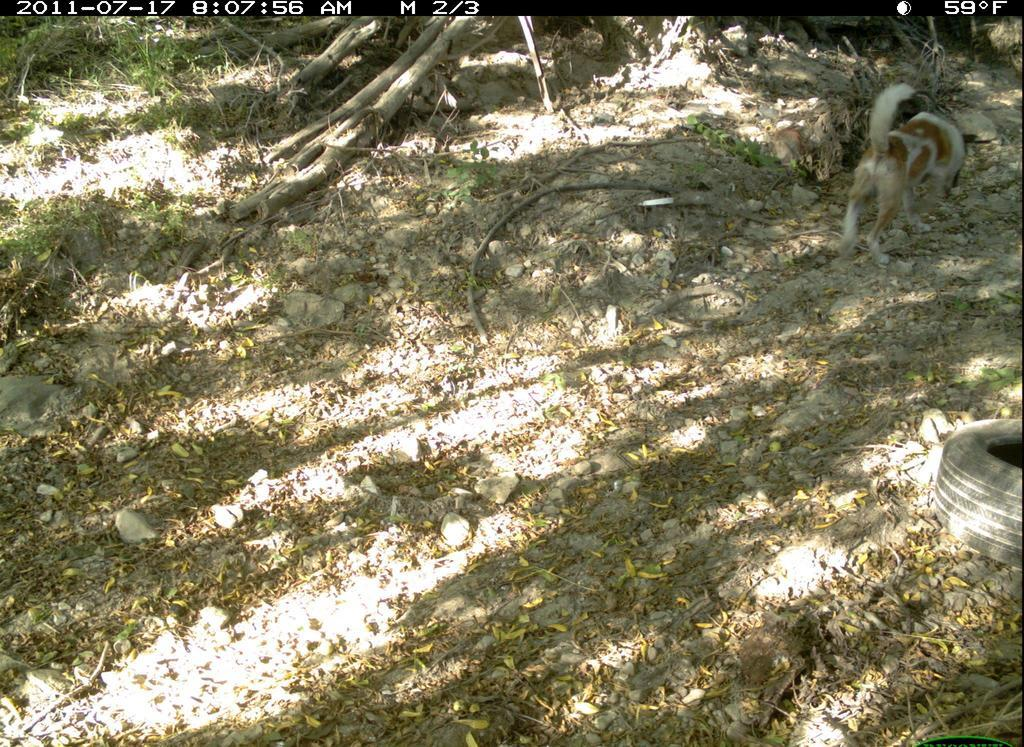dog: (836, 73, 989, 268)
